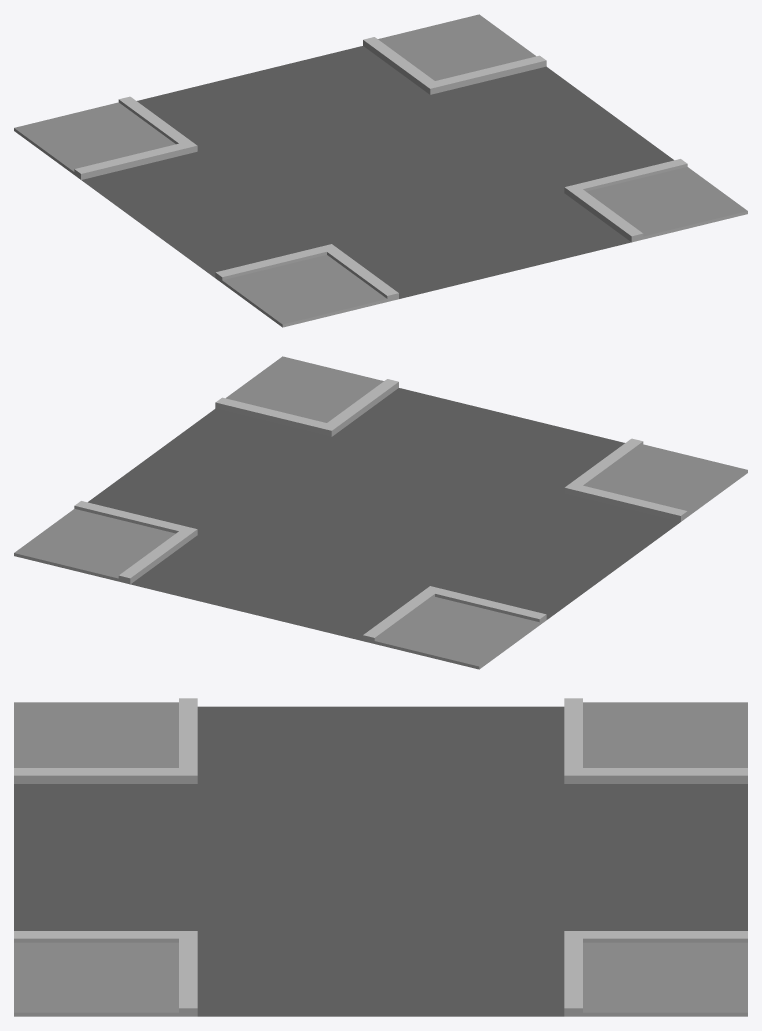
Rendered from street_2cross4.fbx.
The picture shows the model from 3 angles, top to bottom: view 1: azimuth 30°, elevation 25°; view 2: azimuth 150°, elevation 25°; view 3: azimuth 270°, elevation 25°; orthographic projection. The views are drawn at different scales.
Visible parts, largest first — view 1: street_2cross4; view 2: street_2cross4; view 3: street_2cross4.
Part boxes in pixels (x1,y1,x2,y2): street_2cross4: (14,14,747,327); street_2cross4: (14,356,747,669); street_2cross4: (14,698,747,1016).
Bounding box in the file's own units: 16 × 0.2 × 16.
